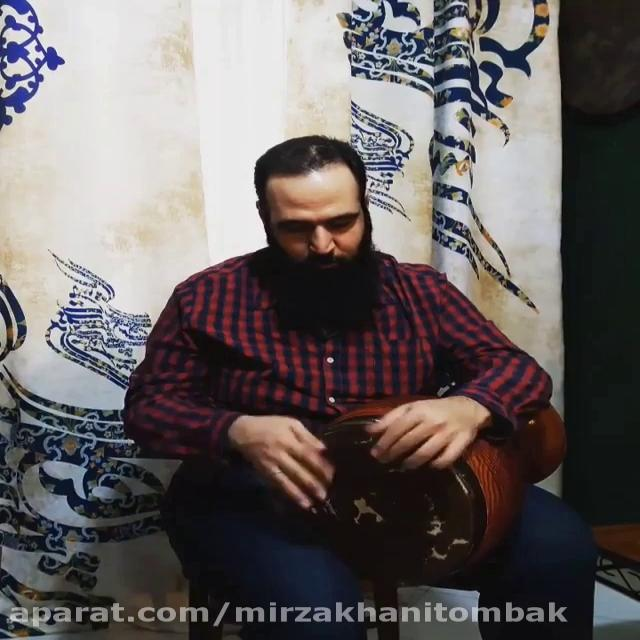Tombak: (302, 390, 585, 592)
